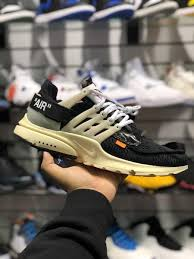Nike x OFF--WHITE Air Presto OG: (10, 65, 190, 178)
